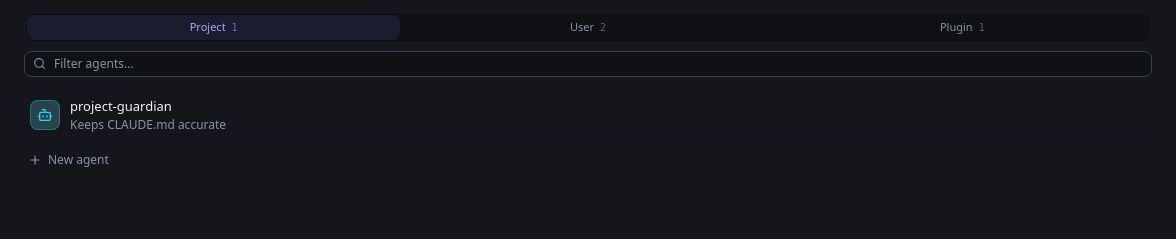
Test: AgentsZone › switching tabs swaps the visible list
Expected: the text "project-guardian" is shown, 70,96 -> 172,116
Expected: the text "user-reviewer" is not shown
Step 1. Click the tab "User 2" → (588, 27), box 401,15 -> 775,40
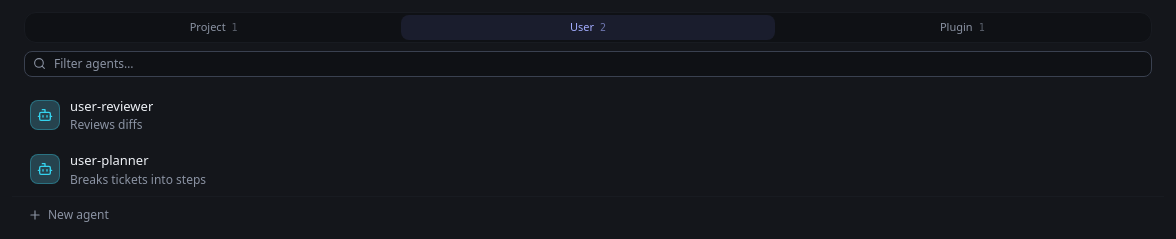
Expected: the text "user-reviewer" is shown, 70,96 -> 153,116
Expected: the text "user-planner" is shown, 70,151 -> 149,170
Expected: the button "project-guardian" is gone
